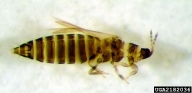Thrips: (11, 18, 162, 85)
